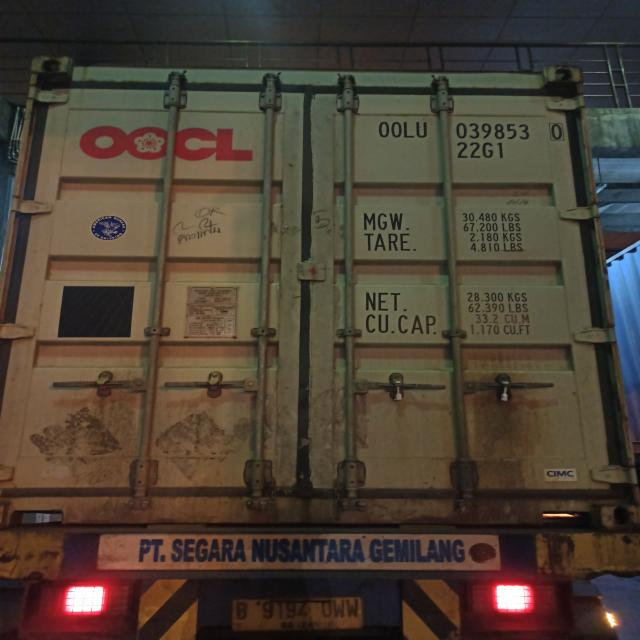seal: (394, 380, 405, 400), (501, 380, 511, 402)
